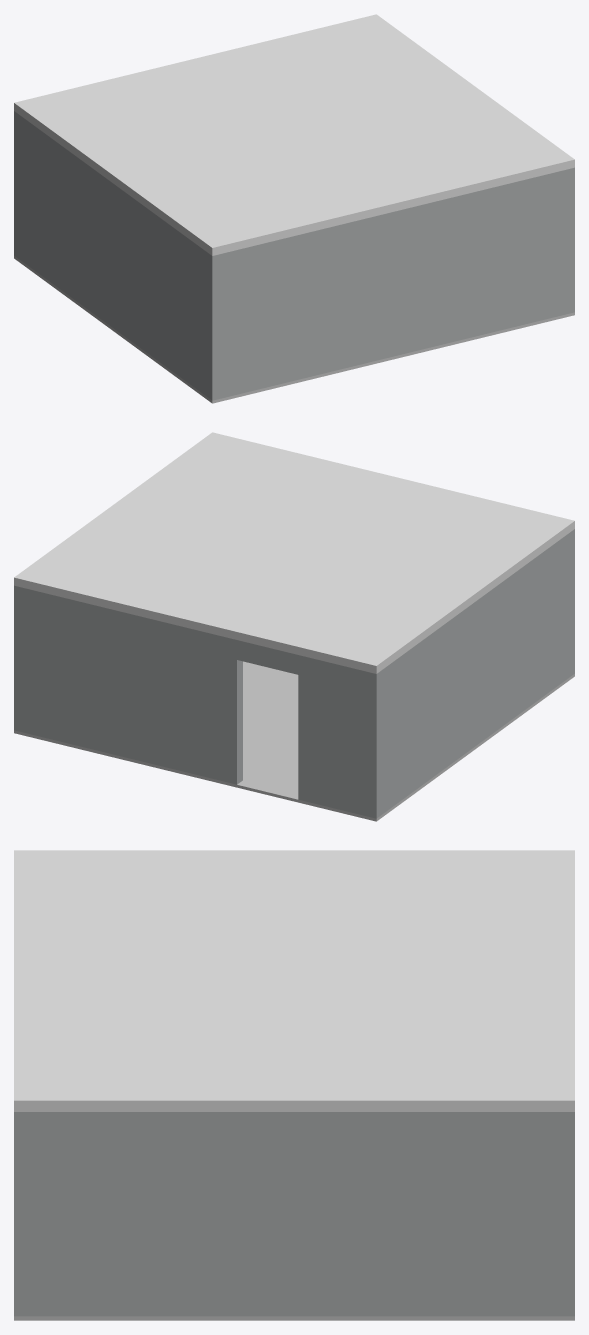
File: InterrogationRoomWalls NEW.fbx
3 views of the same model, one above another, from view 1: azimuth 30°, elevation 25°; view 2: azimuth 150°, elevation 25°; view 3: azimuth 270°, elevation 25° (orthographic). The views are drawn at different scales.
Parts seen in each view (by area): view 1: Walls Interrogation Room, Roof, Floor; view 2: Roof, Walls Interrogation Room, Floor; view 3: Roof, Walls Interrogation Room, Floor.
Boxes of the visible parts, x1,y1,x2,y2 form: Walls Interrogation Room: (14,111,574,400); Roof: (14,14,574,255); Floor: (14,256,574,403); Roof: (14,432,574,673); Walls Interrogation Room: (14,529,574,818); Floor: (14,661,574,821); Roof: (14,850,574,1111); Walls Interrogation Room: (14,1112,574,1316); Floor: (14,1316,574,1320).
Size of the model in its own units: 524 by 215 by 497.
